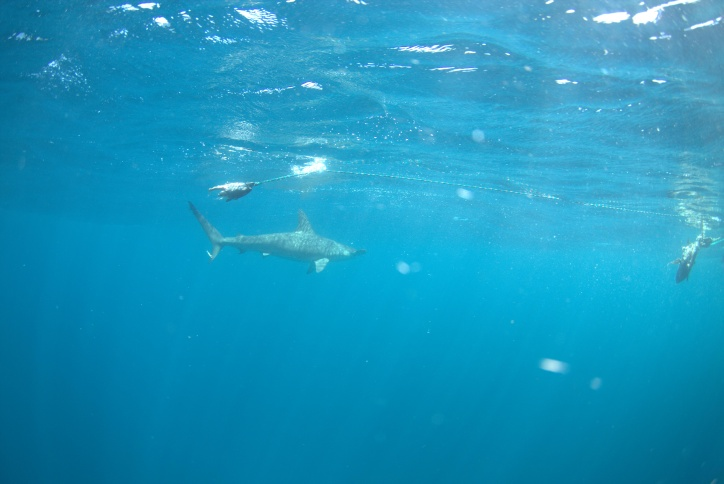Hammer: (166, 189, 379, 288)
